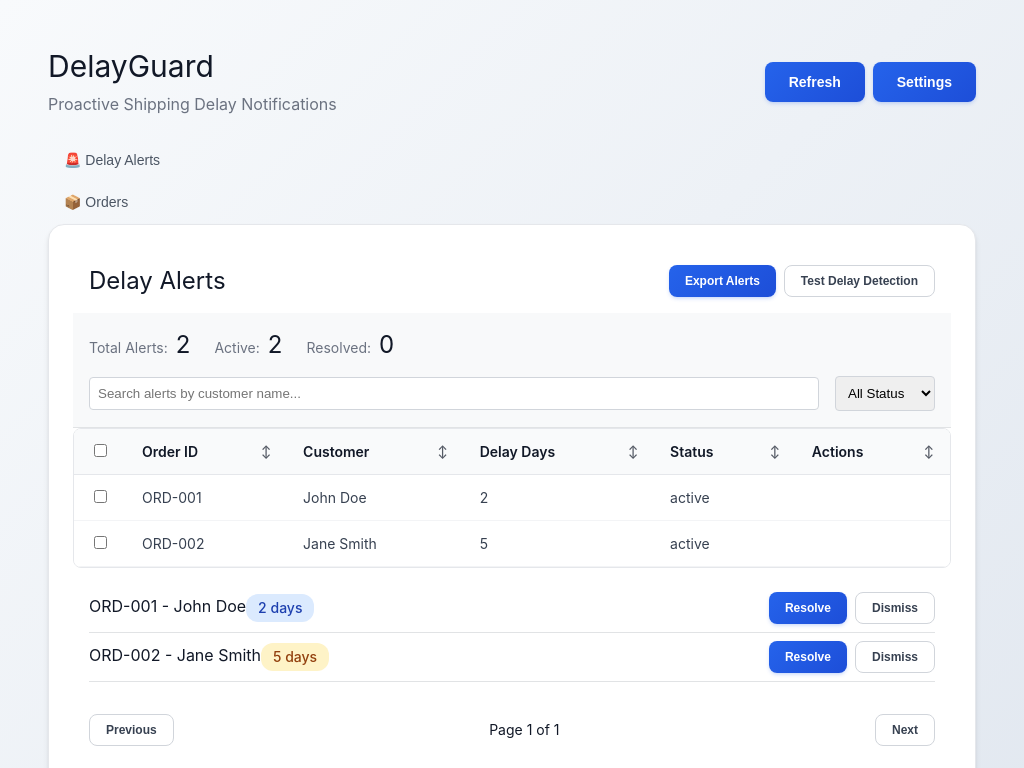
Test: MinimalApp Component › displays settings tab by default
Expected: the heading "DelayGuard" is shown, [48, 48, 214, 84]
# Open settings modal
Click the button with test id "settings-button".
click(924, 82)  # box [873, 62, 976, 102]
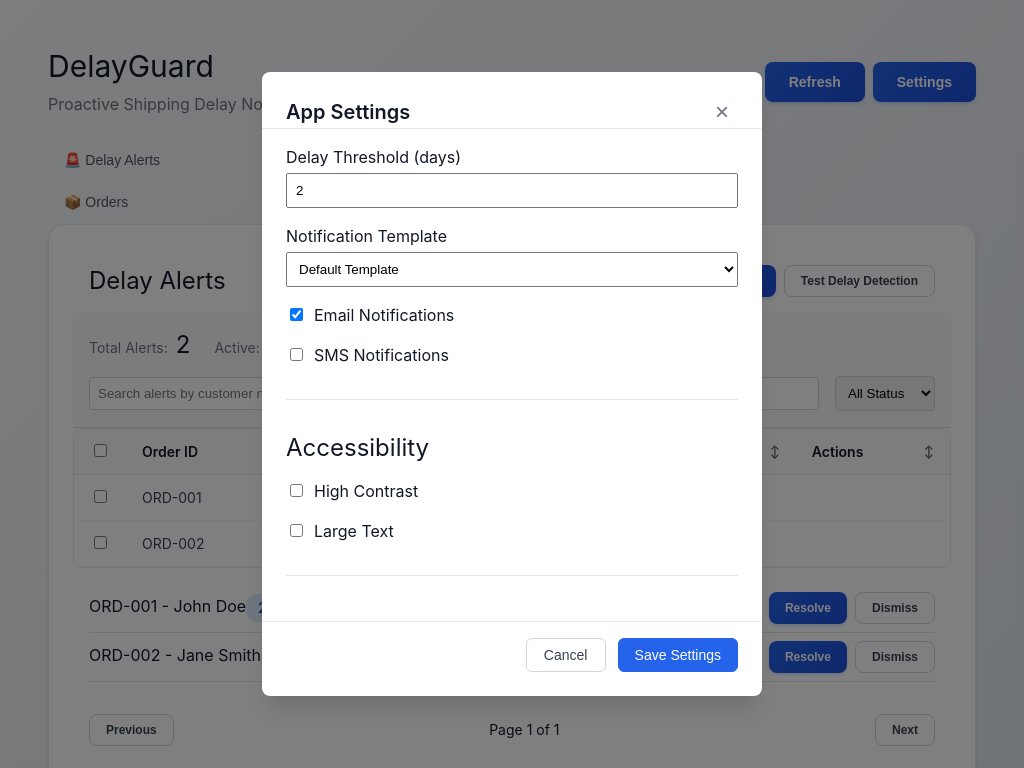
Expected: the heading "App Settings" is shown, [286, 97, 410, 127]
Expected: the number field showing "2" is shown, [286, 173, 738, 208]
